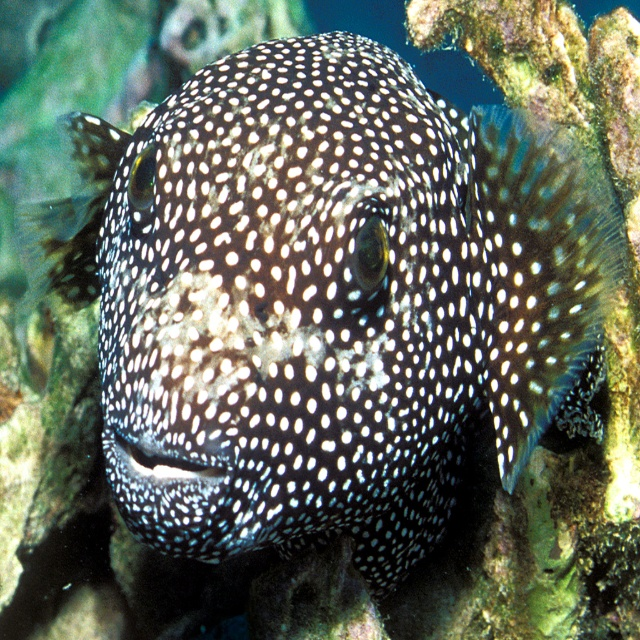Fish: (59, 56, 637, 619)
